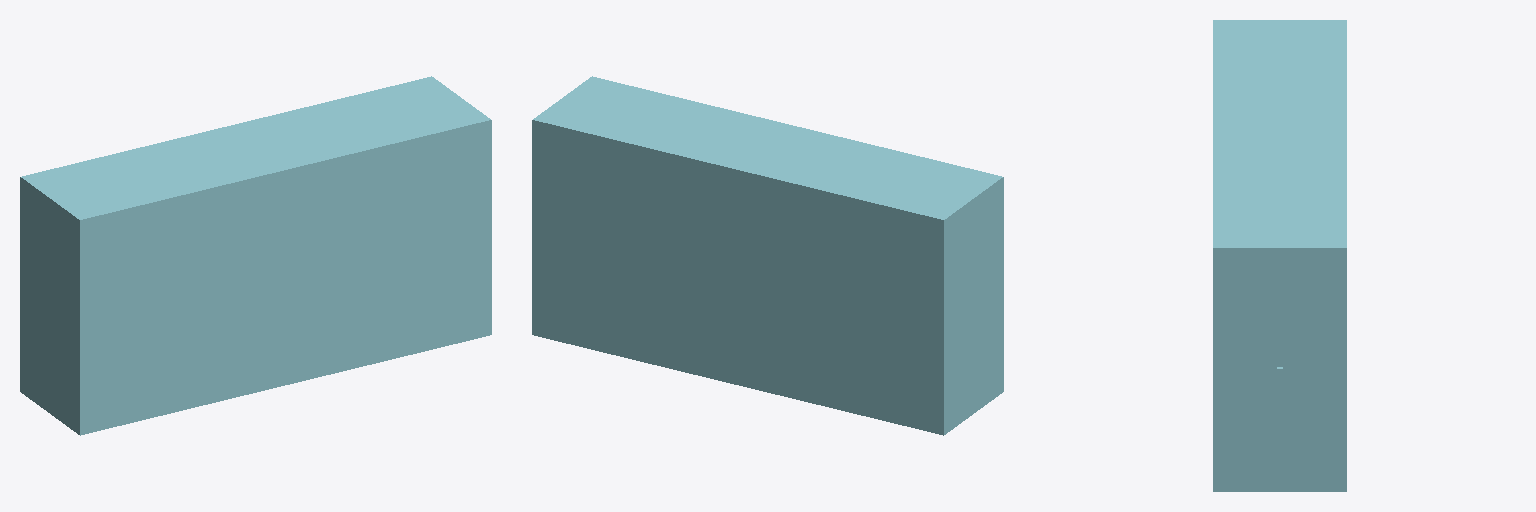
robot.urdf — primitive_small_eraser:
<?xml version="1.0"?>
<robot name="primitive_small_eraser">

  <link name="primitive_small_eraser">
    <!-- Handle -->
    <visual>
      <origin xyz="0 0 0" rpy="0 0 0"/>
      <geometry>
        <box size="0.1 0.025 0.05"/>
      </geometry>
      <material name="material">
        <color rgba="0.639 0.847 0.882 1.0"/>
      </material>
    </visual>
    <collision>
      <origin xyz="0 0 0" rpy="0 0 0"/>
      <geometry>
        <box size="0.1 0.025 0.05"/>
      </geometry>
    </collision>

    <!-- Head -->
    <visual>
      <origin xyz="0.0505 0 0" rpy="0 0 0"/>
      <geometry>
        <box size="0.001 0.001 0.001"/>
      </geometry>
      <material name="material">
        <color rgba="0.639 0.847 0.882 1.0"/>
      </material>
    </visual>
    <collision>
      <origin xyz="0.0505 0 0" rpy="0 0 0"/>
      <geometry>
        <box size="0.001 0.001 0.001"/>
      </geometry>
    </collision>

    <inertial>
      <density value="400.0"/>
    </inertial>
  </link>

</robot>

--- Facts derived from the render (not from the file) ---
The picture shows the robot from 3 angles, left to right: view 1: azimuth 30°, elevation 25°; view 2: azimuth 150°, elevation 25°; view 3: azimuth 270°, elevation 25°; orthographic projection.
Robot: primitive_small_eraser — 1 links, 0 joints (none); root link primitive_small_eraser; default pose: every joint at zero.
Links seen in each view (by area): view 1: primitive_small_eraser; view 2: primitive_small_eraser; view 3: primitive_small_eraser.
Boxes of the visible links, x1,y1,x2,y2 form: primitive_small_eraser: (20, 76, 491, 435); primitive_small_eraser: (532, 76, 1003, 435); primitive_small_eraser: (1213, 20, 1346, 491).
Size in the robot's own frame: 0.101 by 0.025 by 0.05 metres.
Geometry: primitives only (box / cylinder / sphere), no mesh files.
